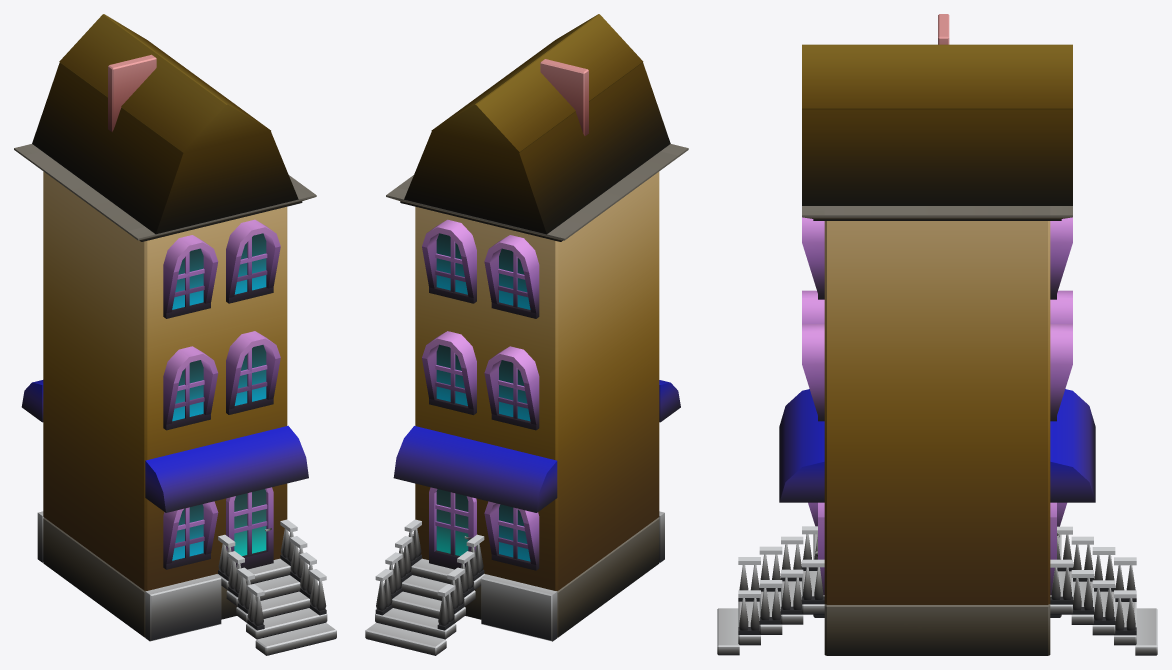
Rendered from Building_14.fbx.
3 renders of one model, left to right at view 1: azimuth 30°, elevation 25°; view 2: azimuth 150°, elevation 25°; view 3: azimuth 270°, elevation 25°, orthographic. The views are drawn at different scales.
Parts seen in each view (by area): view 1: Building_14; view 2: Building_14; view 3: Building_14.
Boxes of the visible parts, x1,y1,x2,y2 form: Building_14: (14, 14, 336, 655); Building_14: (365, 14, 688, 655); Building_14: (717, 14, 1157, 655).
Bounding box in the file's own units: 143 × 404 × 280.
